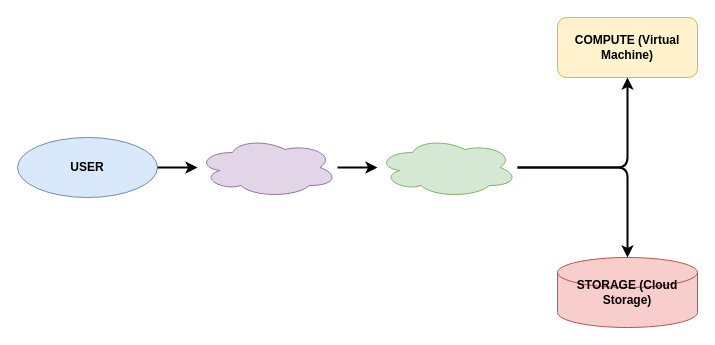
This 715x345 diagram has some shape labels left out. The centre of each missing label's shape, as x and y in pixels:
"INTERNET CONNECTION" goes at pixel 267 167.
"NETWORK (VPC/VNet)" goes at pixel 447 167.
